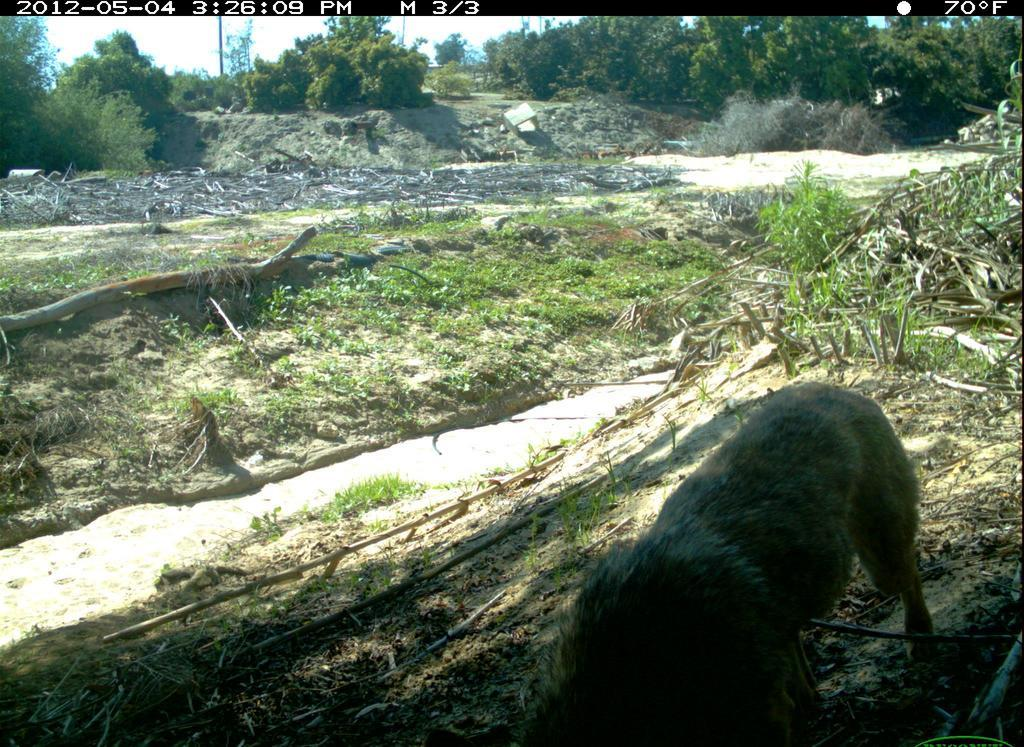coyote: (513, 378, 952, 744)
